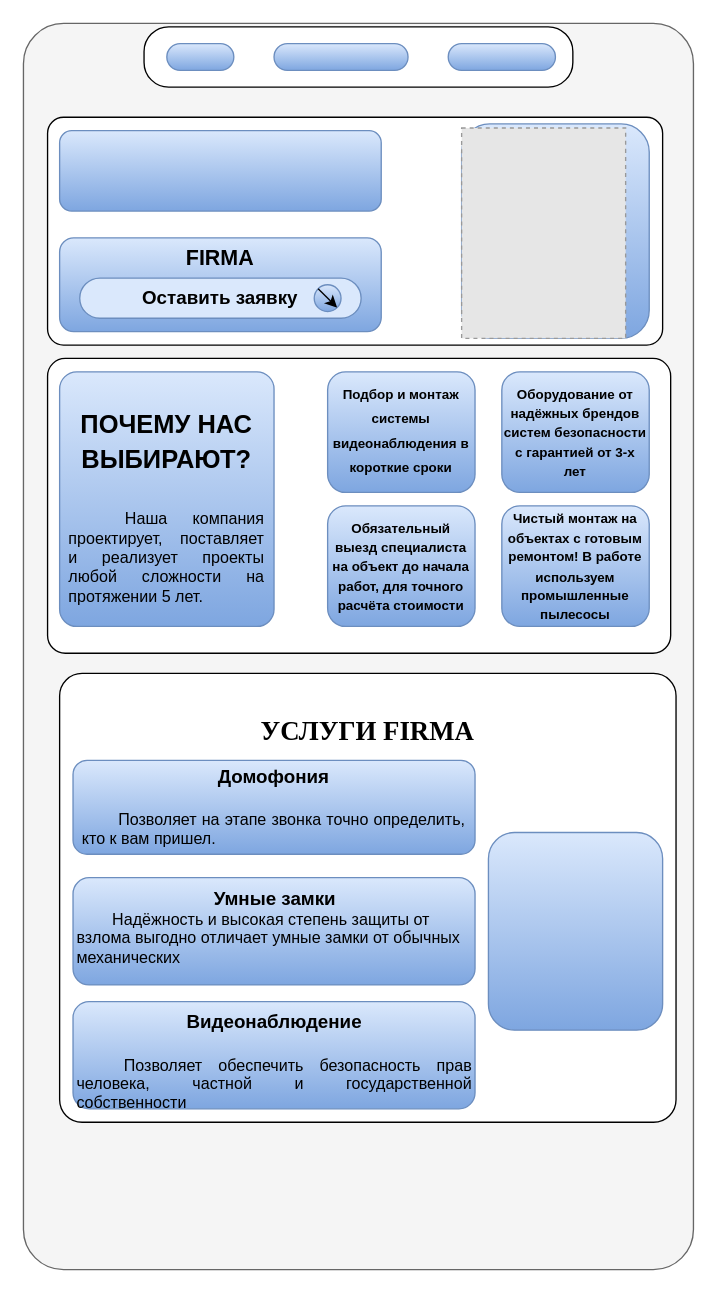
The diagram is 717 pixels wide and 1293 high, and some of its shapes have lost their labels. Grey dashed boxes stand in for pictures. The centre of each missing label's shape, as x and y in pixels:
"Контакты" goes at [501,56].
"Системы распознавания лиц Идентификации личности при помощи сканировании лица" goes at [575,930].
"Схема работы" goes at [340,56].
"Услуги" goes at [199,56].
"Установка и продажа систем видеонаблюдения" goes at [219,170].
